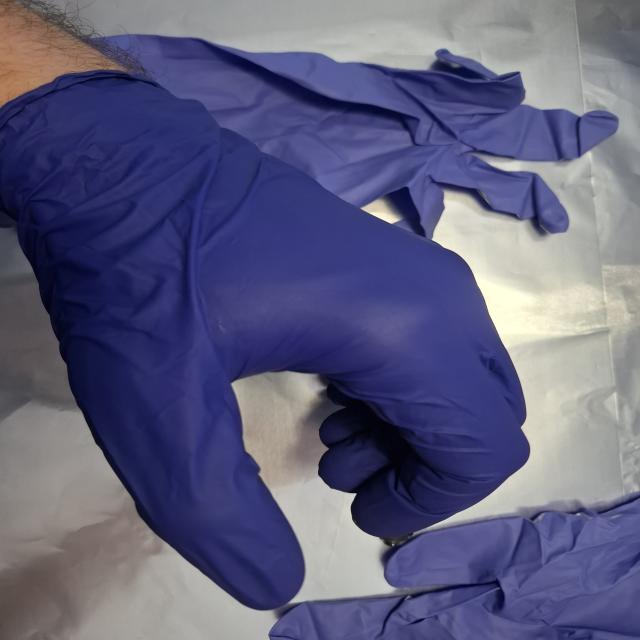glove_on: (0, 60, 536, 612)
